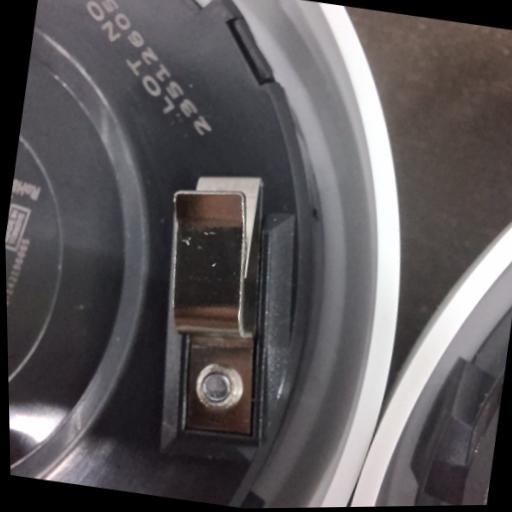yayli: (137, 168, 295, 448)
